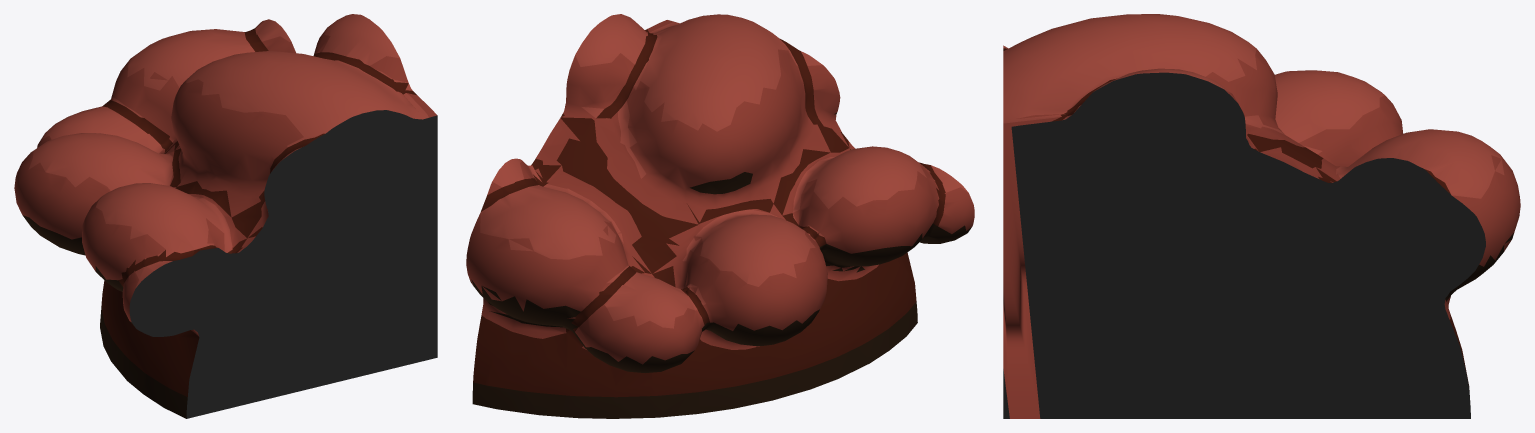
Rendered from miners_ore_tl.glb.
3 views of the same model, side by side, from view 1: azimuth 30°, elevation 25°; view 2: azimuth 150°, elevation 25°; view 3: azimuth 270°, elevation 25° (orthographic). The views are drawn at different scales.
Visible parts, largest first — view 1: ore.001; view 2: ore.001; view 3: ore.001.
Part boxes in pixels (x1,y1,x2,y2): ore.001: [14, 14, 437, 418]; ore.001: [466, 14, 974, 418]; ore.001: [1003, 14, 1520, 418].
Size of the model in its own units: 15.1 by 13.52 by 18.3.
